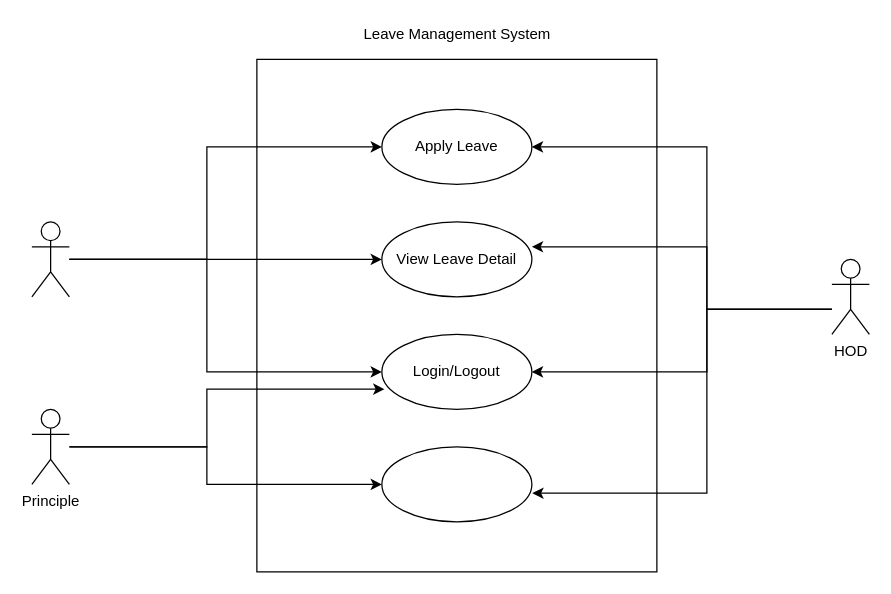
The diagram is 891 pixels wide and 594 high, and some of its shapes have lost their labels. The box of each missing label's shape, as (x1, y1, x2, y2) in pixels:
Approve/Reject: (381, 446, 532, 522)
Faculty: (31, 221, 69, 297)
